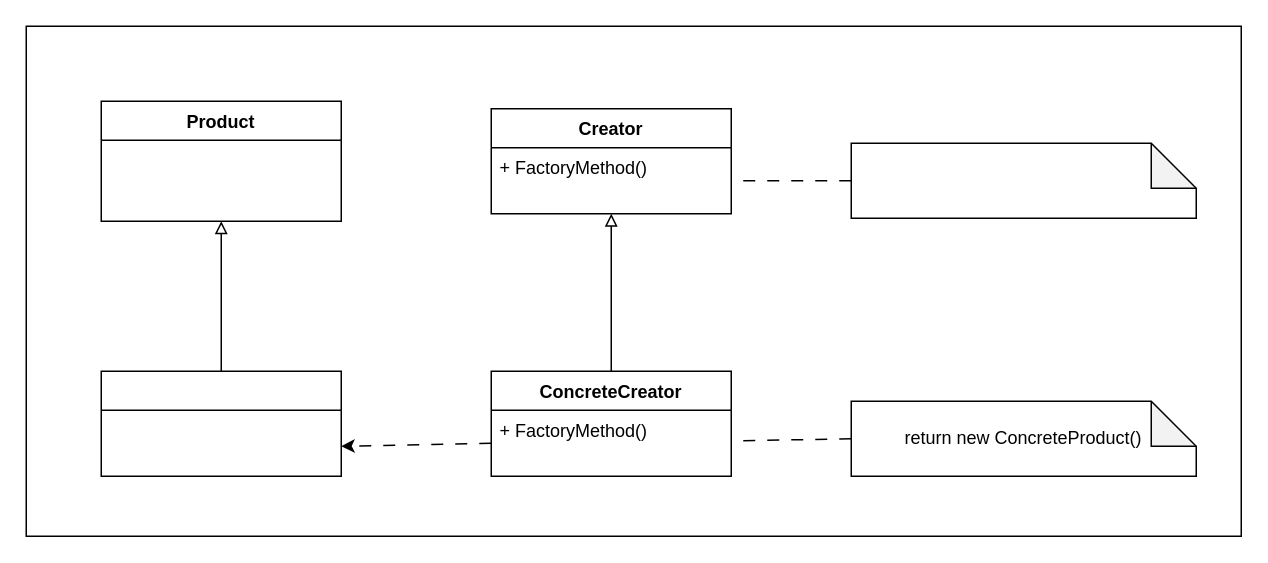
This 1268x563 diagram has some shape labels left out. Here are the shapes that lost their labels. From the top down, the centre of each, then its label:
At (1023,180): "product = FactoryMethod()".
At (220,423): "ConcreteProduct".
